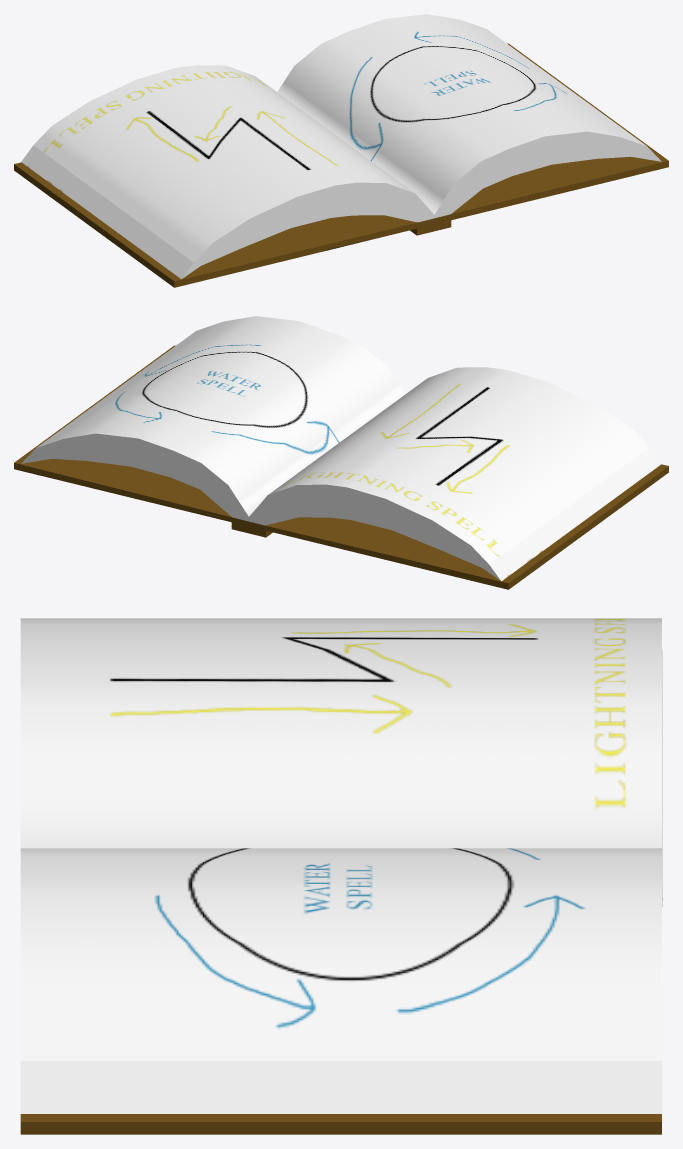
Rendered from finalSpell.fbx.
3 views of the same model, one above another, from view 1: azimuth 30°, elevation 25°; view 2: azimuth 150°, elevation 25°; view 3: azimuth 270°, elevation 25° (orthographic). The views are drawn at different scales.
Parts seen in each view (by area): view 1: Book; view 2: Book; view 3: Book.
Part boxes in pixels (box(x1,y1,x2,y2)): Book: box(14, 14, 668, 287); Book: box(14, 316, 668, 589); Book: box(20, 618, 662, 1134).
Bounding box in the file's own units: 28.67 × 3.88 × 16.11.
